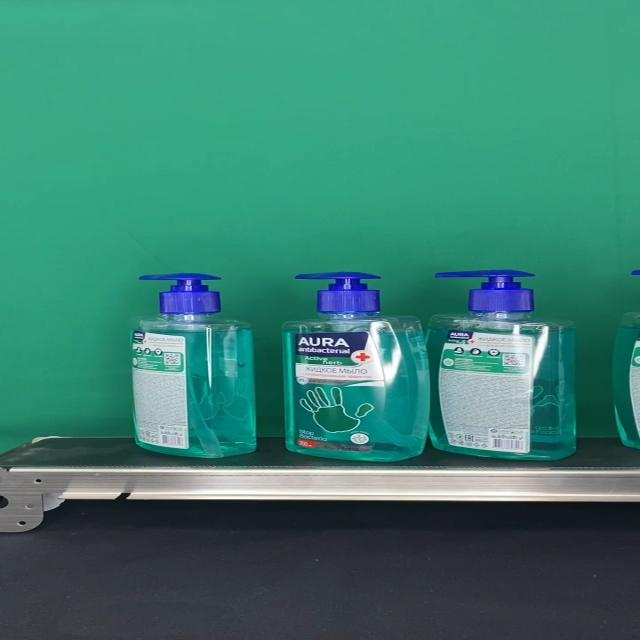Bottle: (425, 269, 574, 460), (282, 272, 431, 459), (130, 274, 256, 458)
Cap: (435, 270, 537, 312), (294, 272, 384, 313), (138, 273, 222, 314)
